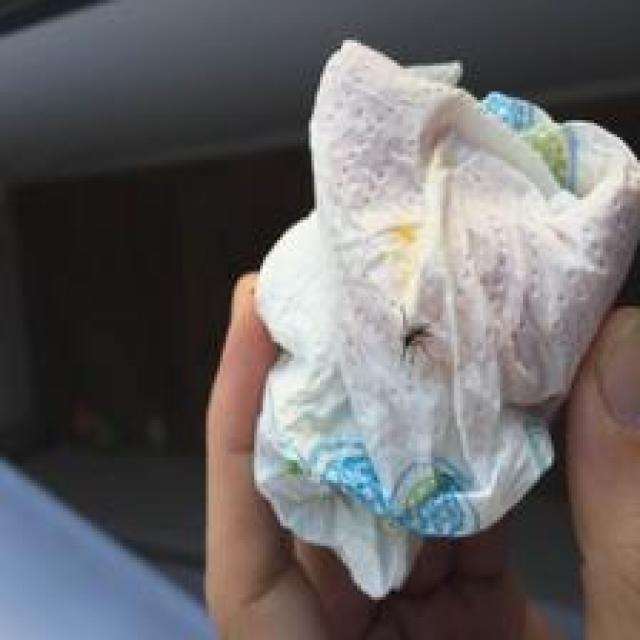Aedes albopictus: (248, 37, 640, 600)
